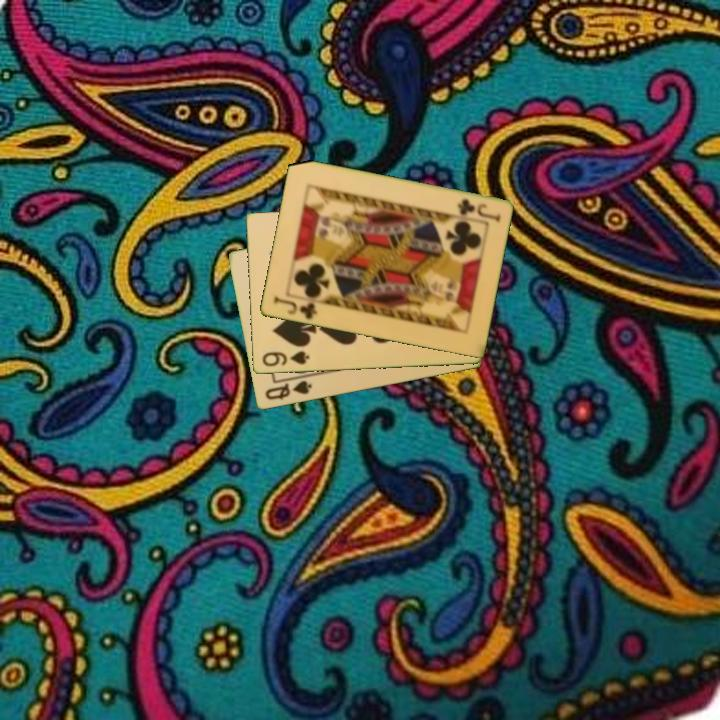9s: (258, 348, 312, 370)
Jc: (270, 293, 320, 322), (454, 196, 504, 224)
Qs: (261, 377, 315, 403)
